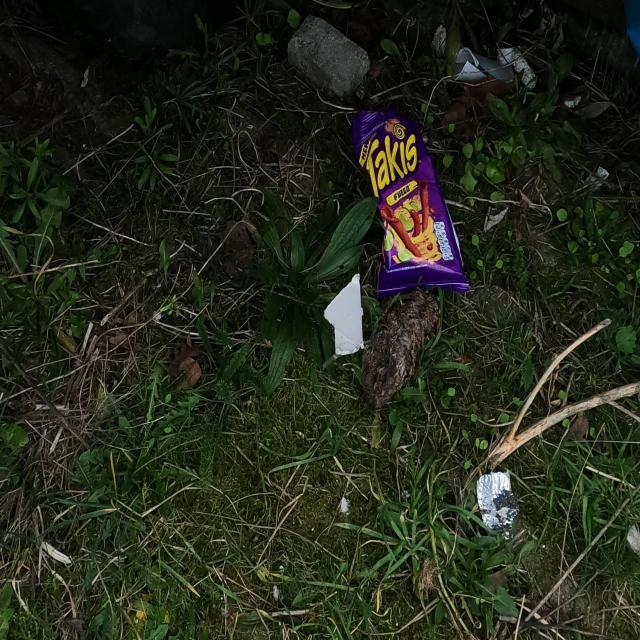Plastic: (350, 108, 470, 299)
